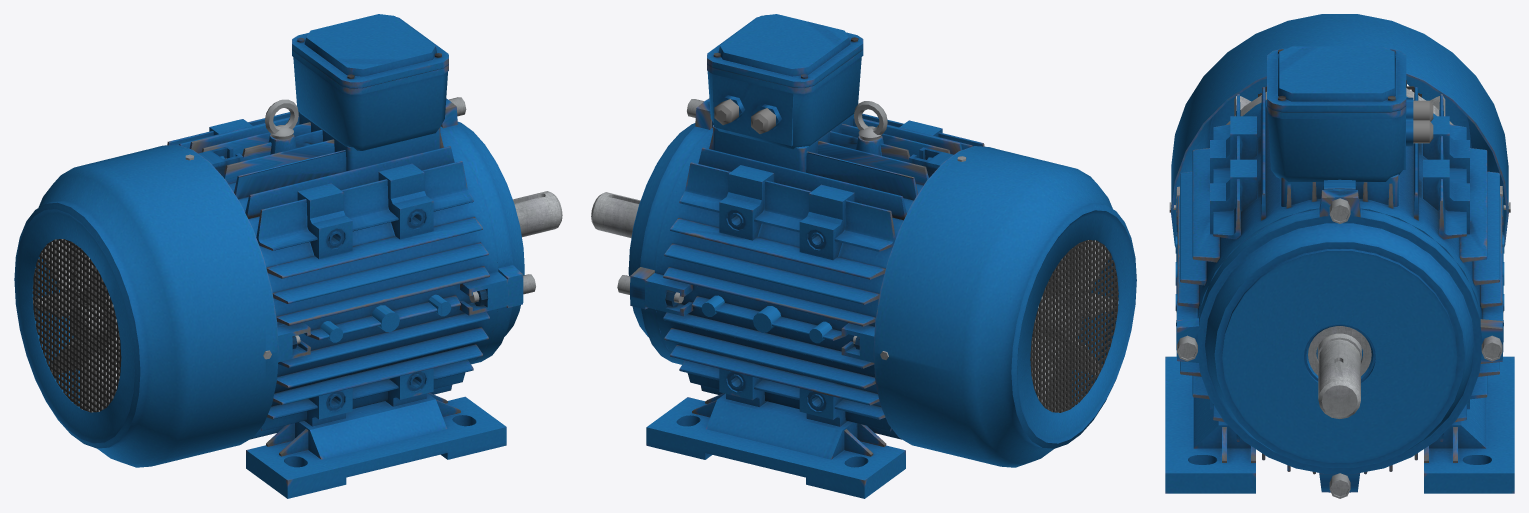
The model's file is dianji.glb.
3 renders of one model, left to right at view 1: azimuth 30°, elevation 25°; view 2: azimuth 150°, elevation 25°; view 3: azimuth 270°, elevation 25°, orthographic. The views are drawn at different scales.
Visible parts, largest first — view 1: node_DianJi_21__3058, 对象001, node_DianJi_27__3070, node_DianJi_22__3060, node_DianJi_01_-3034, node_DianJi_26_-3068, 对象002; view 2: node_DianJi_21__3058, 对象001, node_DianJi_27__3070, node_DianJi_22__3060, node_DianJi_01_-3034, node_DianJi_26_-3068, 对象002; view 3: node_DianJi_22__3060, node_DianJi_21__3058, node_DianJi_27__3070, 对象001, node_DianJi_01_-3034, node_DianJi_09_-3044, node_DianJi_11_-3048, node_DianJi_03_-3038, node_DianJi_12_-3050, node_DianJi_10_-3046, node_DianJi_25_-3066.
Boxes of the visible parts, left/top/right/bottom form: node_DianJi_21__3058: left=167, top=111, right=508, bottom=498; 对象001: left=14, top=144, right=278, bottom=467; node_DianJi_27__3070: left=292, top=14, right=448, bottom=150; node_DianJi_22__3060: left=441, top=98, right=524, bottom=364; node_DianJi_01_-3034: left=69, top=191, right=562, bottom=343; node_DianJi_26_-3068: left=33, top=239, right=119, bottom=412; 对象002: left=265, top=99, right=298, bottom=139; node_DianJi_21__3058: left=645, top=113, right=984, bottom=498; 对象001: left=873, top=146, right=1136, bottom=467; node_DianJi_27__3070: left=707, top=14, right=863, bottom=149; node_DianJi_22__3060: left=628, top=98, right=711, bottom=364; node_DianJi_01_-3034: left=591, top=192, right=1081, bottom=343; node_DianJi_26_-3068: left=1032, top=240, right=1118, bottom=412; 对象002: left=854, top=101, right=887, bottom=140; node_DianJi_22__3060: left=1176, top=189, right=1503, bottom=492; node_DianJi_21__3058: left=1165, top=87, right=1514, bottom=493; node_DianJi_27__3070: left=1267, top=46, right=1433, bottom=181; 对象001: left=1171, top=14, right=1508, bottom=247; node_DianJi_01_-3034: left=1317, top=333, right=1361, bottom=418; node_DianJi_09_-3044: left=1308, top=326, right=1371, bottom=375; node_DianJi_11_-3048: left=1176, top=88, right=1503, bottom=211; node_DianJi_03_-3038: left=1481, top=335, right=1502, bottom=361; node_DianJi_12_-3050: left=1329, top=198, right=1350, bottom=223; node_DianJi_10_-3046: left=1329, top=473, right=1350, bottom=498; node_DianJi_25_-3066: left=1177, top=335, right=1197, bottom=361.
Bounding box in the file's own units: 3.14 × 2.26 × 1.82.
Materials: 7 (3 with a texture image).
